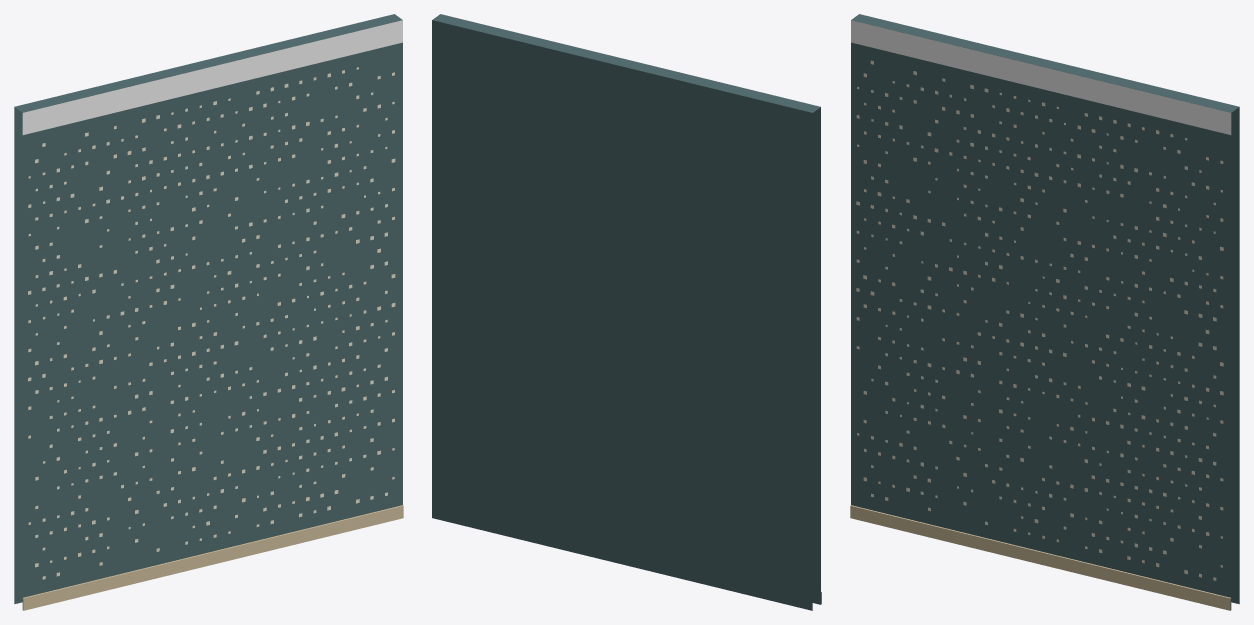
File: KC32__AD_Arc_Wall_Stars.glb
The picture shows the model from 3 angles, left to right: view 1: azimuth 30°, elevation 25°; view 2: azimuth 150°, elevation 25°; view 3: azimuth 330°, elevation 25°; orthographic projection.
Visible parts, largest first — view 1: KC32_CORPS__AD_Arc_Wall_Stars, KC32_ACCENT__AD_Arc_Wall_Stars, KC32_LUMIERE__AD_Arc_Wall_Stars, KC32_BRONZE__AD_Arc_Wall_Stars; view 2: KC32_CORPS__AD_Arc_Wall_Stars; view 3: KC32_CORPS__AD_Arc_Wall_Stars, KC32_ACCENT__AD_Arc_Wall_Stars, KC32_LUMIERE__AD_Arc_Wall_Stars, KC32_BRONZE__AD_Arc_Wall_Stars.
Part boxes in pixels (x1=…): KC32_CORPS__AD_Arc_Wall_Stars: x1=14, y1=14, x2=402, y2=609; KC32_ACCENT__AD_Arc_Wall_Stars: x1=22, y1=20, x2=402, y2=134; KC32_LUMIERE__AD_Arc_Wall_Stars: x1=28, y1=67, x2=395, y2=579; KC32_BRONZE__AD_Arc_Wall_Stars: x1=23, y1=505, x2=403, y2=610; KC32_CORPS__AD_Arc_Wall_Stars: x1=432, y1=14, x2=820, y2=610; KC32_CORPS__AD_Arc_Wall_Stars: x1=851, y1=14, x2=1239, y2=609; KC32_ACCENT__AD_Arc_Wall_Stars: x1=851, y1=20, x2=1231, y2=134; KC32_LUMIERE__AD_Arc_Wall_Stars: x1=856, y1=60, x2=1223, y2=580; KC32_BRONZE__AD_Arc_Wall_Stars: x1=850, y1=505, x2=1230, y2=610.
Size of the model in its own units: 8 by 10 by 0.33.
